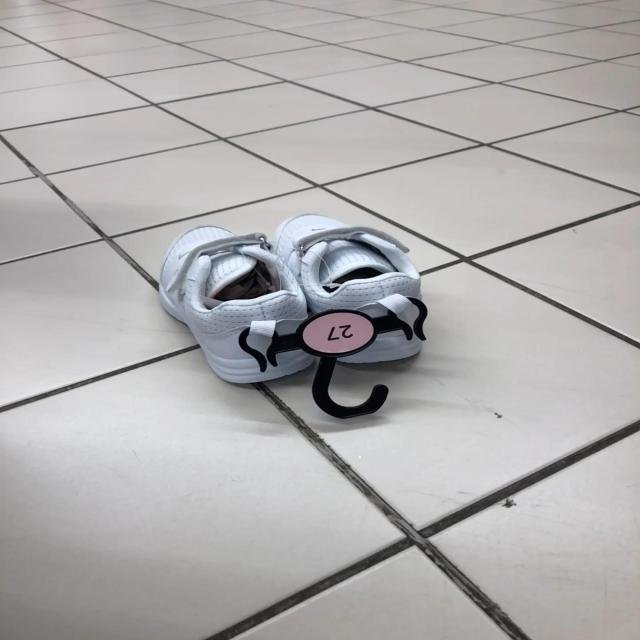shoe: (274, 215, 428, 345), (161, 229, 281, 346)
